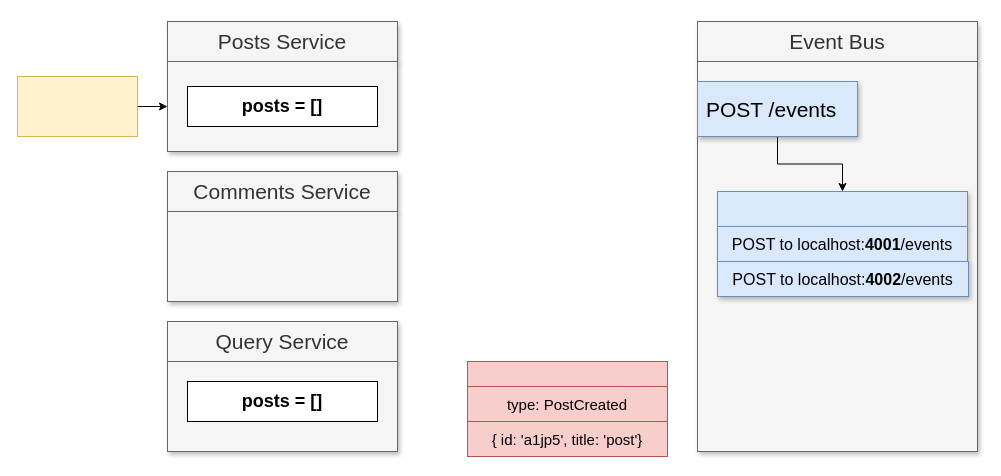
Some shapes in this 1001 by 476 pixel diagram are drawn without their labels. Here are the shapes that lost their labels. From the top down, the centre of each, then its label:
pixel 77 106: User tries to create a post
pixel 843 210: POST to localhost: 4000 /events
pixel 567 373: Event
